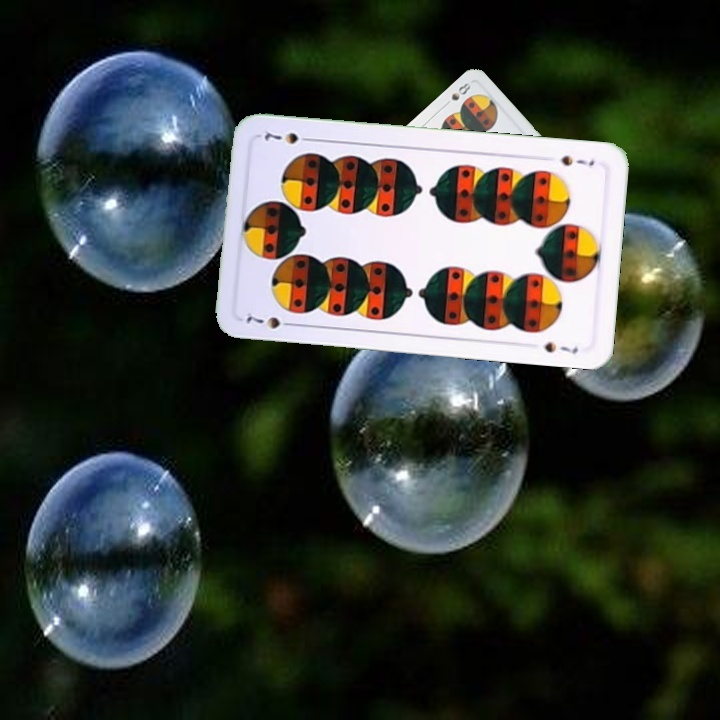S7: (241, 308, 298, 332), (557, 151, 597, 169)
S8: (439, 79, 474, 110)
